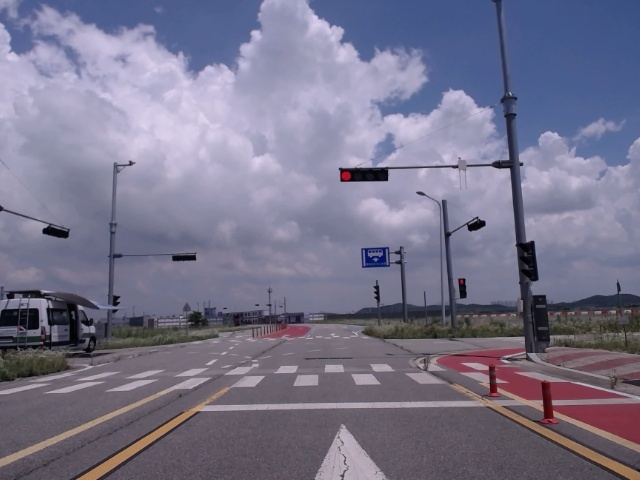red_4: (340, 170, 388, 182)
